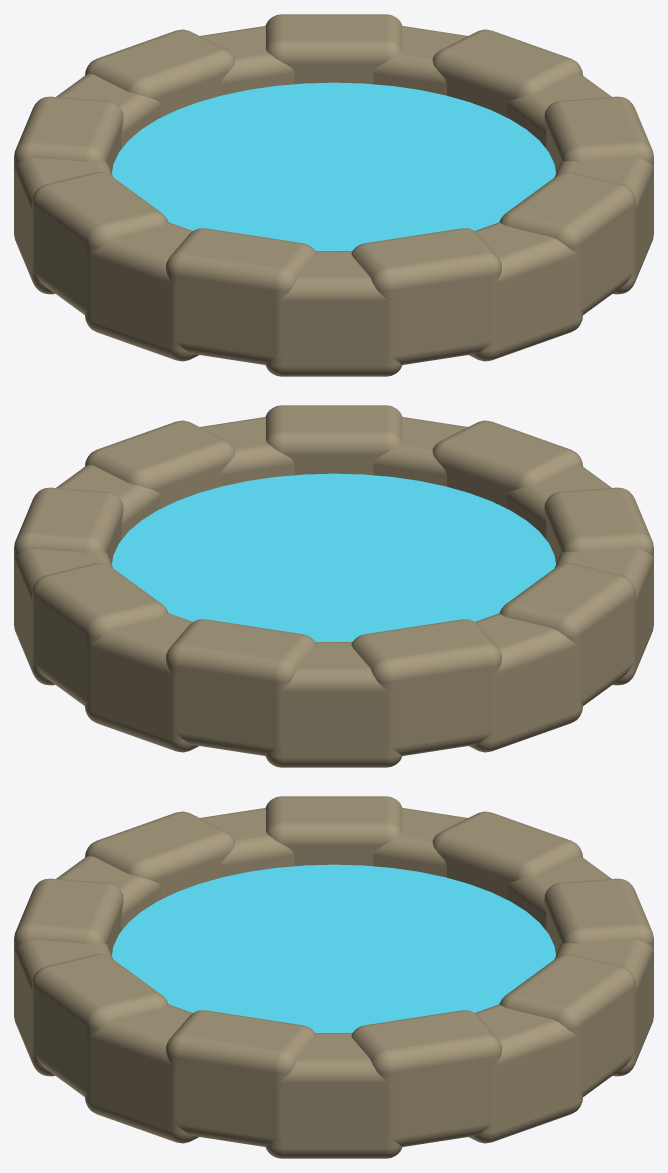
Rendered from well.glb.
3 renders of one model, top to bottom at view 1: azimuth 30°, elevation 25°; view 2: azimuth 150°, elevation 25°; view 3: azimuth 270°, elevation 25°, orthographic.
Visible parts, largest first — view 1: verdant_well, well_water; view 2: verdant_well, well_water; view 3: verdant_well, well_water.
Boxes of the visible parts, <box> form: verdant_well: <box>14,14,653,376</box>; well_water: <box>112,82,555,250</box>; verdant_well: <box>14,405,653,767</box>; well_water: <box>112,473,555,641</box>; verdant_well: <box>14,796,653,1158</box>; well_water: <box>112,864,555,1032</box>.
Bounding box in the file's own units: 2.44 × 0.46 × 2.47.
